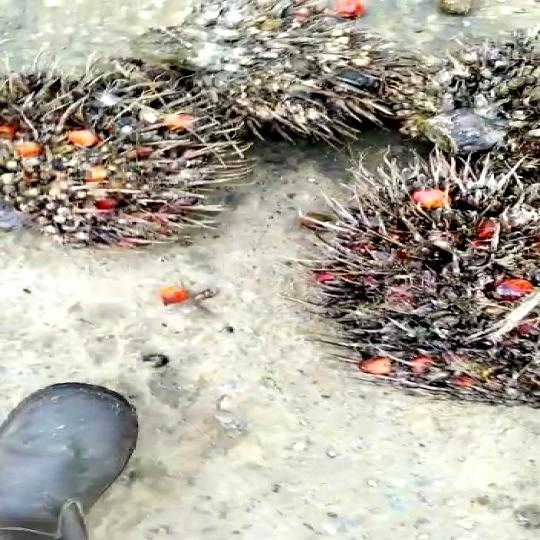terlalu masak: (338, 176, 540, 398), (118, 0, 414, 140), (0, 92, 242, 242)
